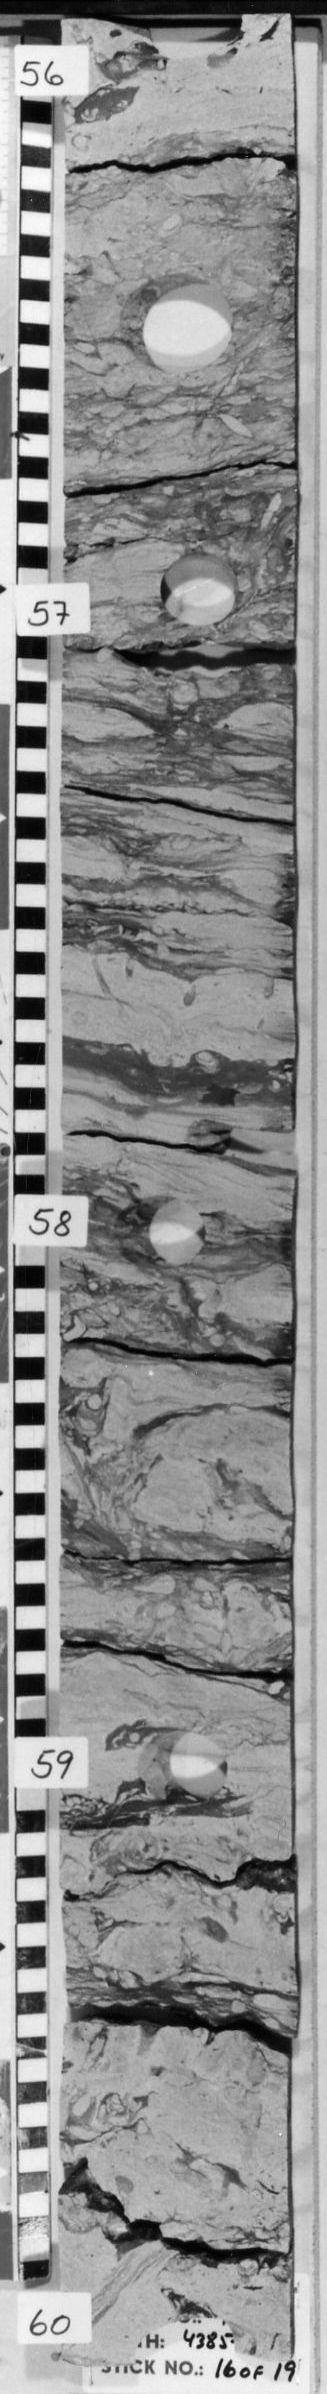hplug: (112, 1182, 225, 1287), (121, 1724, 241, 1821), (151, 540, 261, 634)
scal: (113, 256, 248, 382)
vplug: (121, 14, 257, 64)
